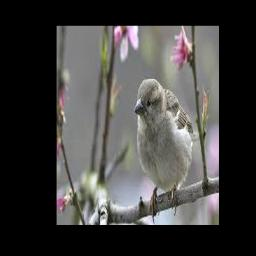Sparrow: (133, 78, 199, 222)
